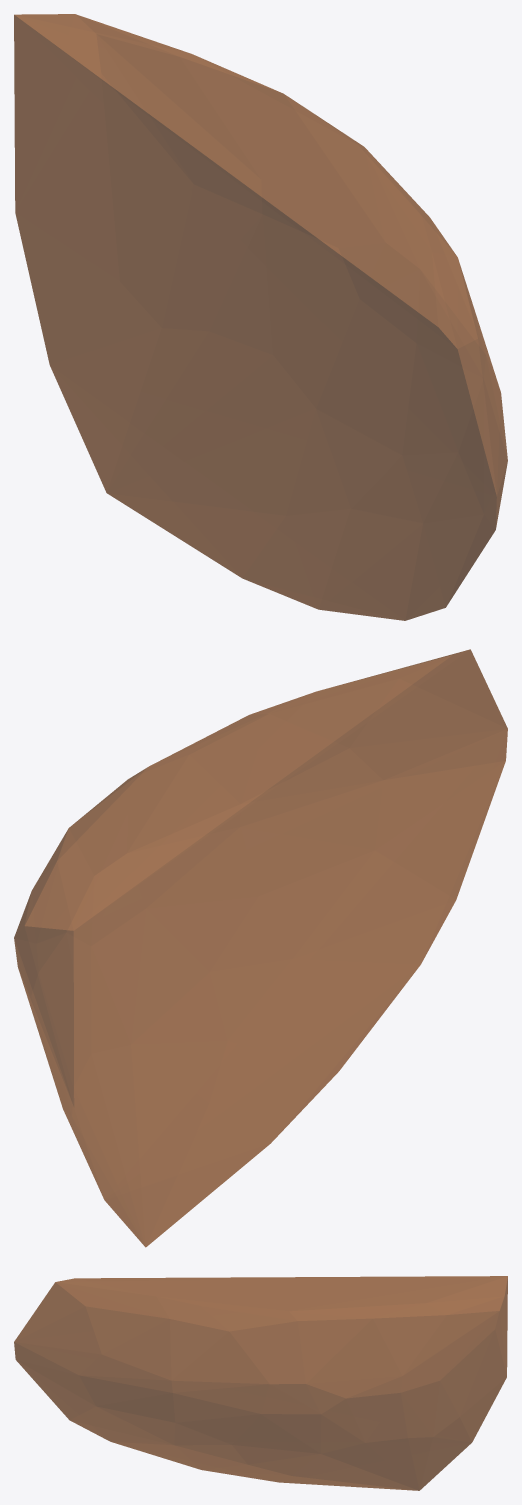
The picture shows the model from 3 angles, top to bottom: view 1: azimuth 30°, elevation 25°; view 2: azimuth 150°, elevation 25°; view 3: azimuth 270°, elevation 25°; orthographic projection. The views are drawn at different scales.
Visible parts, largest first — view 1: Shape_IndexedFaceSet.005_Shape_IndexedFaceSet.18158; view 2: Shape_IndexedFaceSet.005_Shape_IndexedFaceSet.18158; view 3: Shape_IndexedFaceSet.005_Shape_IndexedFaceSet.18158.
Boxes of the visible parts, box(x1,y1,x2,y2) form: Shape_IndexedFaceSet.005_Shape_IndexedFaceSet.18158: box(14, 14, 507, 620); Shape_IndexedFaceSet.005_Shape_IndexedFaceSet.18158: box(14, 649, 507, 1247); Shape_IndexedFaceSet.005_Shape_IndexedFaceSet.18158: box(14, 1276, 507, 1490).
Size of the model in its own units: 0.1561 by 0.3569 by 0.7491.
